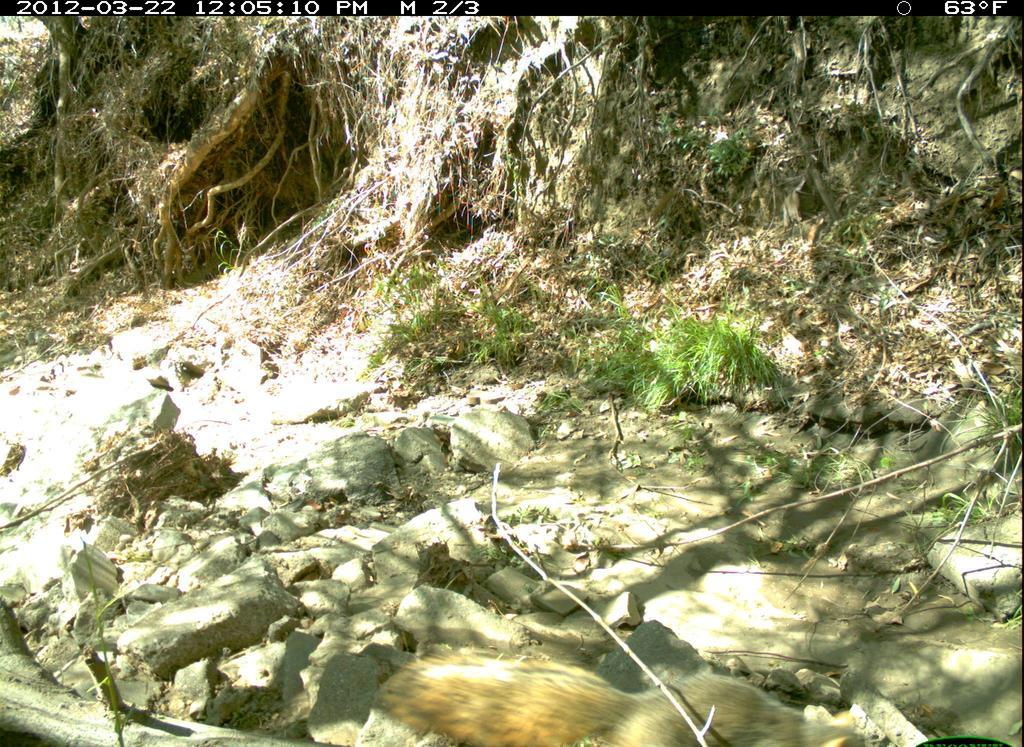squirrel: (381, 629, 897, 747)
